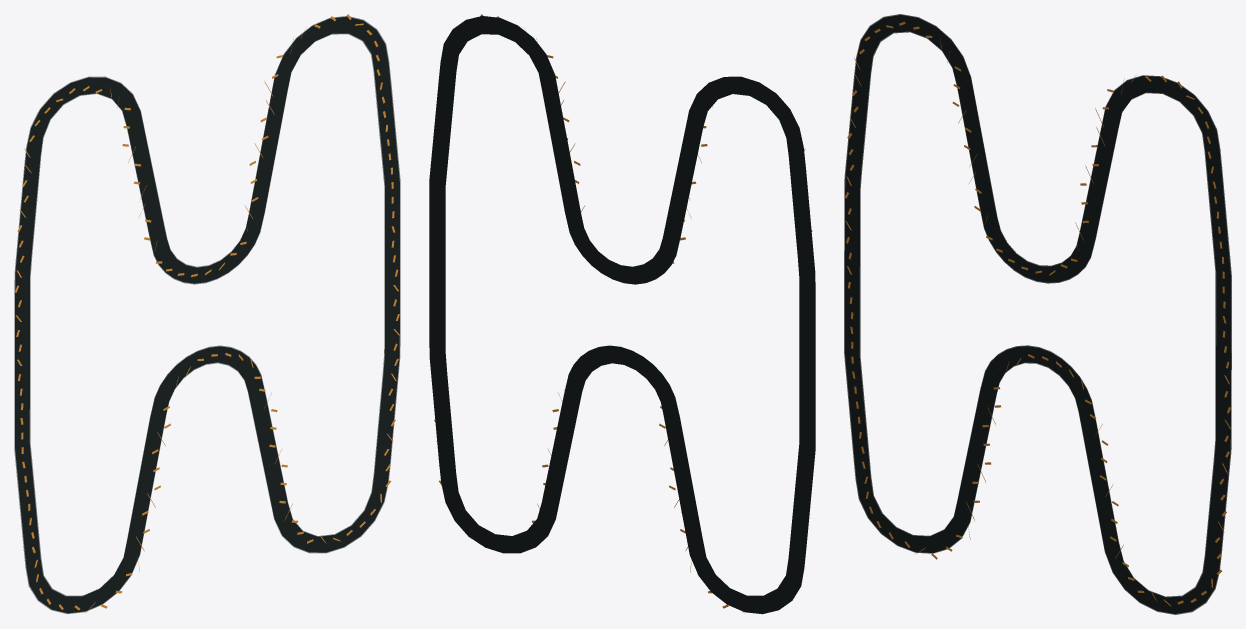
Rendered from track.obj.
3 views of the same model, side by side, from view 1: azimuth 30°, elevation 25°; view 2: azimuth 150°, elevation 25°; view 3: azimuth 330°, elevation 25° (orthographic).
Size of the model in its own units: 17.89 by 23.81 by 0.002.
